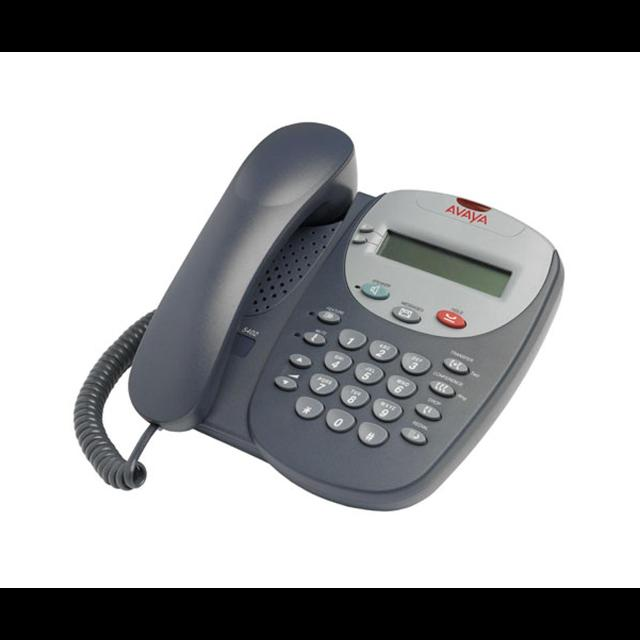Telephone-Set: (112, 116, 548, 540)
